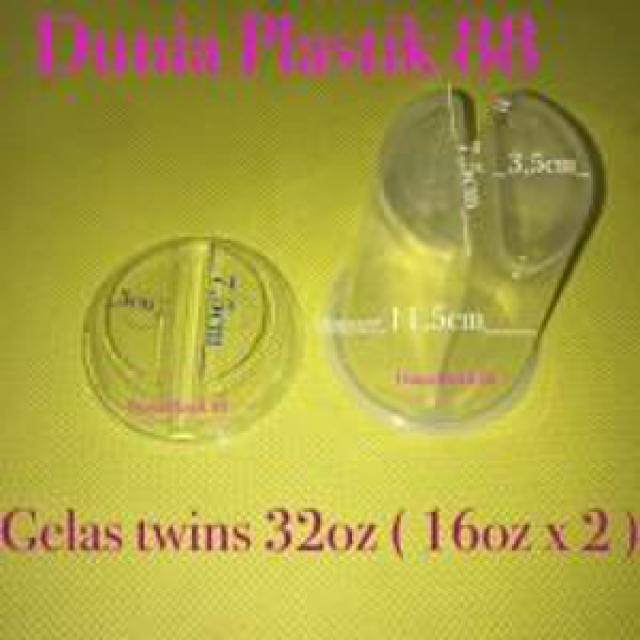plastic cup: (314, 83, 608, 446)
